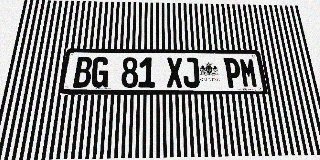1: (138, 57, 155, 88)
8: (121, 57, 138, 88)
B: (73, 57, 93, 88)
G: (90, 57, 109, 88)
J: (182, 58, 200, 88)
M: (239, 58, 259, 88)
P: (223, 58, 242, 88)
X: (166, 57, 183, 88)
